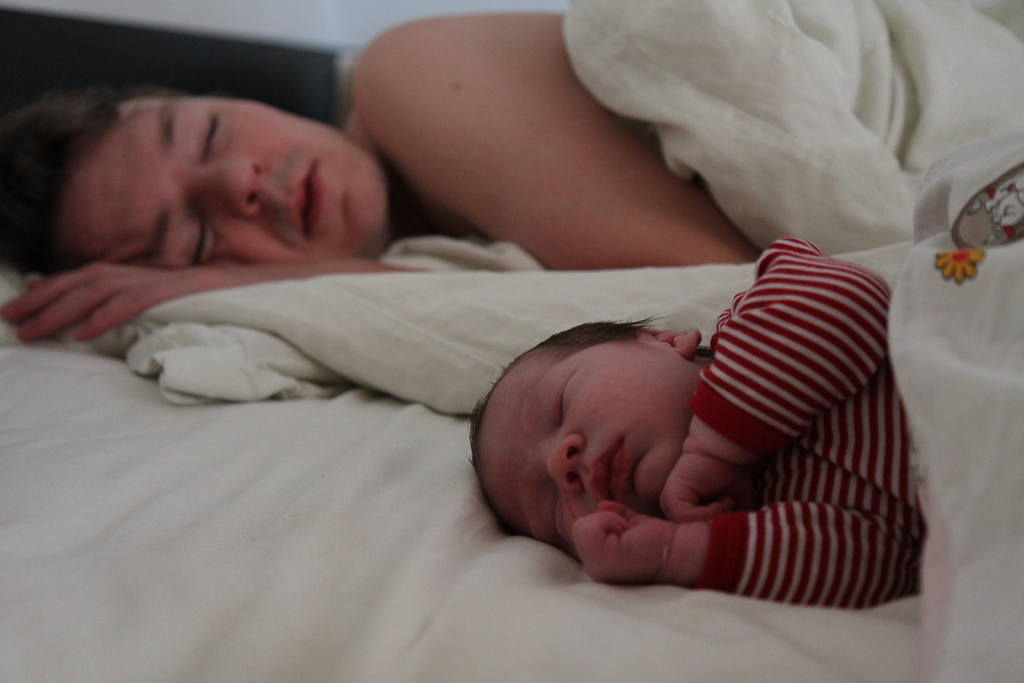Person: (0, 8, 1024, 344), (463, 236, 1023, 613)
